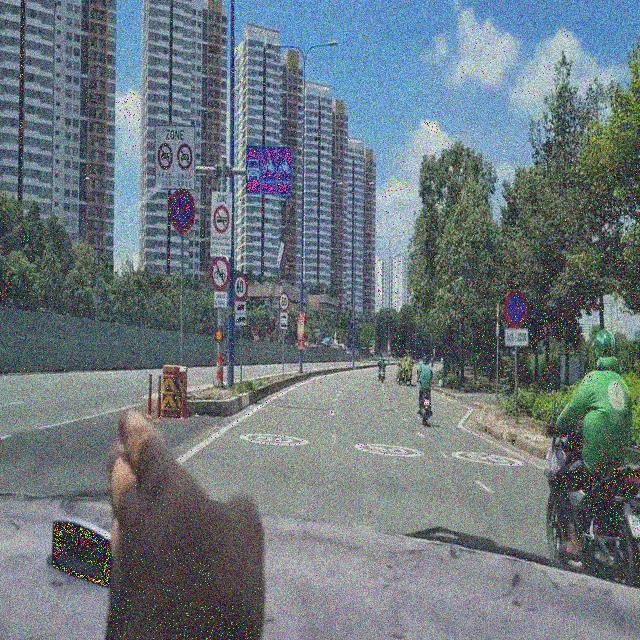Biển phụ: (503, 326, 532, 347), (234, 299, 248, 327), (210, 288, 229, 308), (278, 311, 290, 331)
Cấm các phương tiện hoạt động trong khung giờ cố định: (148, 117, 194, 188), (209, 189, 230, 257)
Cấm dừng - Cấm đỗ: (500, 278, 527, 330), (167, 181, 194, 231)
Cấm xe máy: (211, 258, 230, 289)
Giới hạn tốc độ: 60Km/h: (231, 269, 249, 297)
Giới hạn tốc độ: 80Km/h: (274, 287, 290, 312)
Làn đường cho từng xe: (243, 140, 294, 201)
